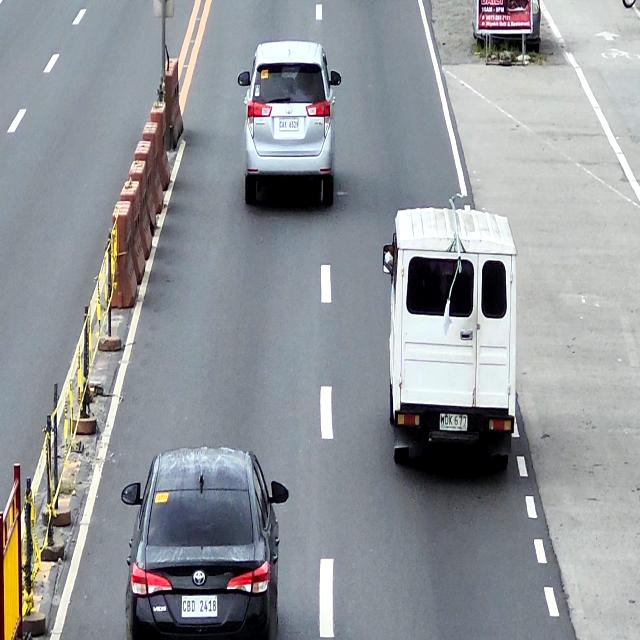Car: (382, 208, 517, 474), (121, 447, 288, 640), (237, 40, 342, 210)
License-Plate: (181, 595, 218, 618), (439, 412, 468, 432), (278, 118, 300, 130)
